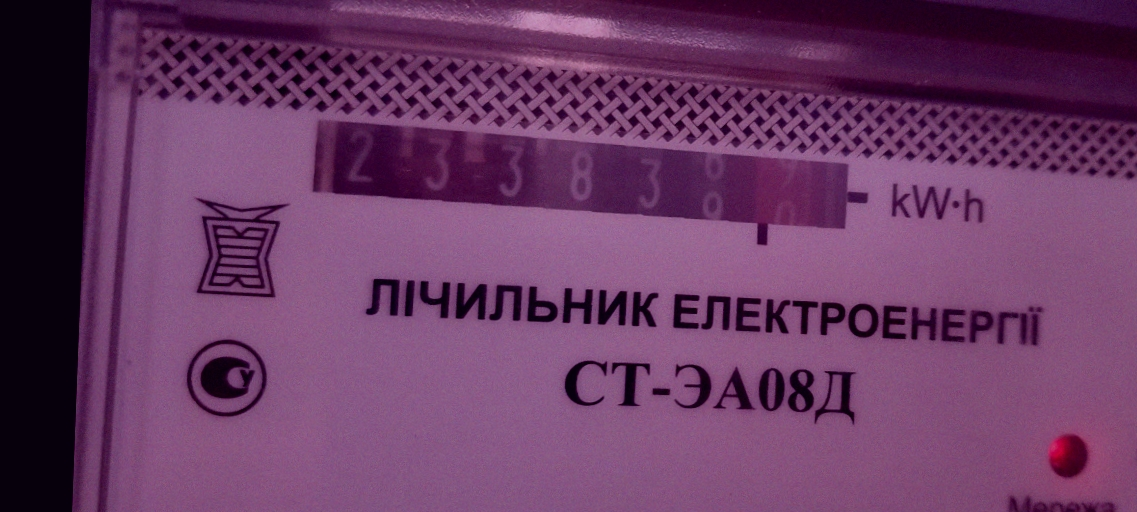0: (771, 196, 799, 231)
2: (341, 124, 381, 186)
3: (491, 137, 529, 202), (635, 151, 666, 209), (423, 133, 452, 192)
8: (563, 144, 599, 204), (701, 148, 729, 181)
9: (771, 152, 802, 192), (698, 186, 728, 223)
screen: (281, 96, 879, 274)
